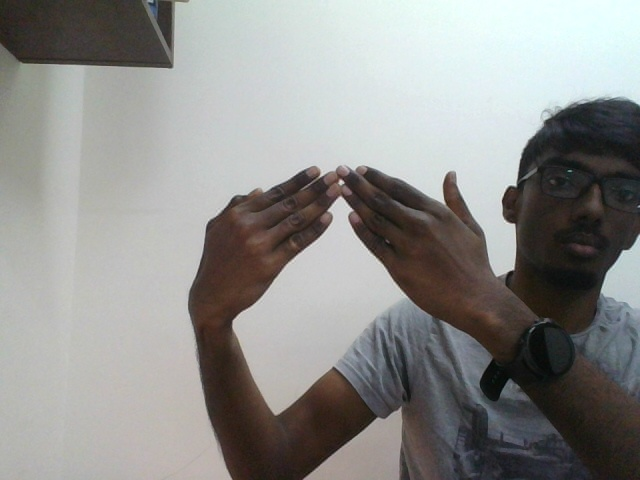Thank You: (225, 165, 460, 294)
